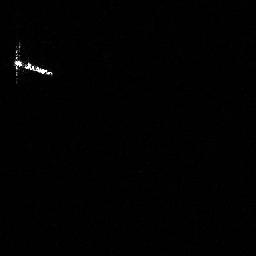ship: (14, 58, 53, 77)
